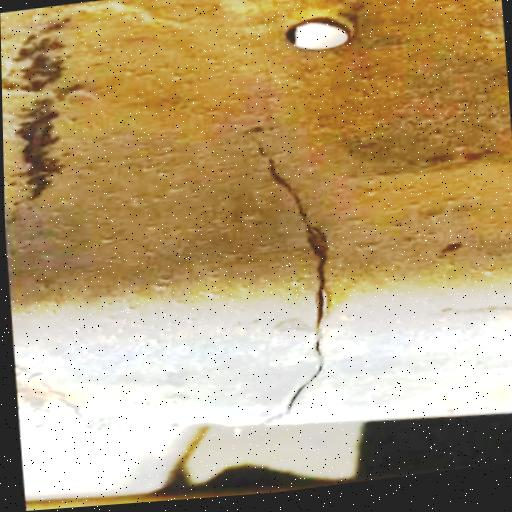crack: (242, 129, 352, 430)
